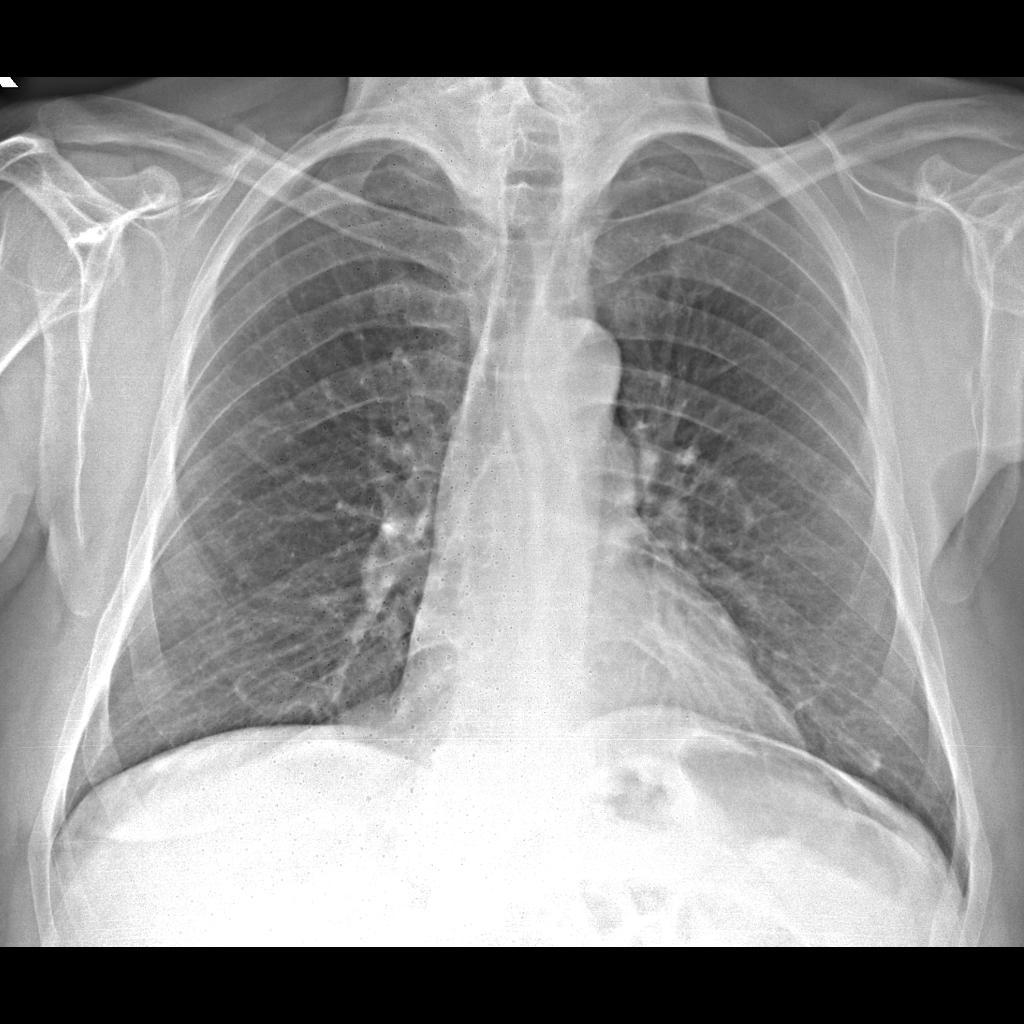Nodule: (854, 741, 890, 782)
